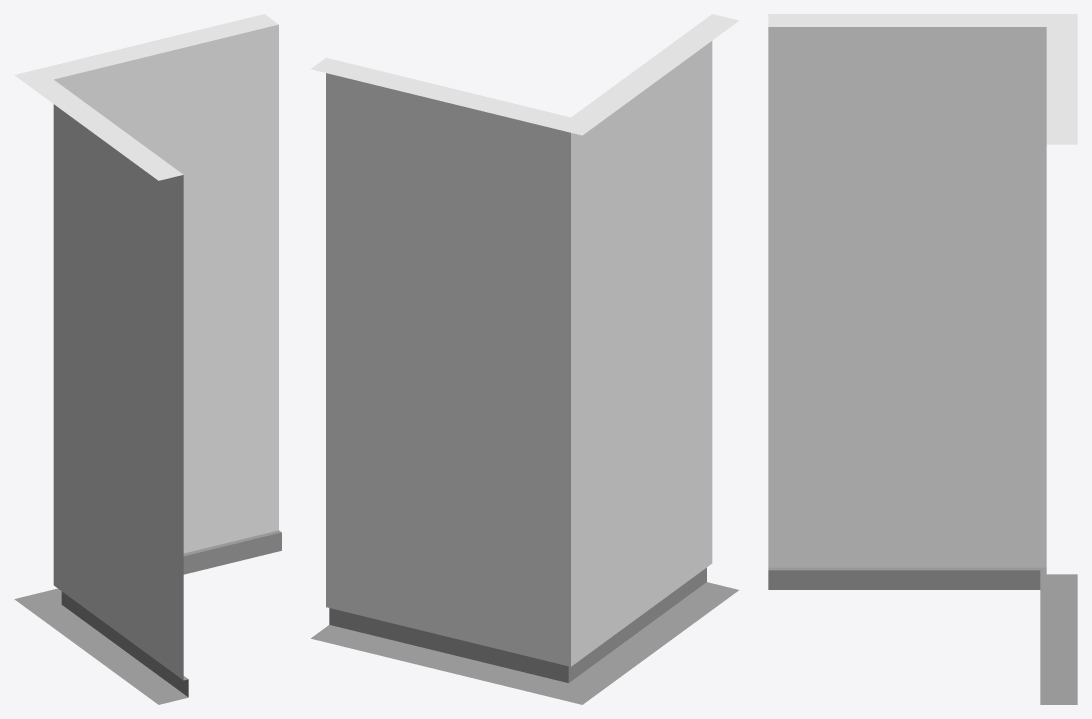
Rendered from Int-V2CornerWhite.fbx.
3 views of the same model, side by side, from view 1: azimuth 30°, elevation 25°; view 2: azimuth 150°, elevation 25°; view 3: azimuth 270°, elevation 25° (orthographic). The views are drawn at different scales.
Visible parts, largest first — view 1: Int-V2CornerWhite; view 2: Int-V2CornerWhite; view 3: Int-V2CornerWhite.
Part boxes in pixels (x1,y1,x2,y2): Int-V2CornerWhite: (14,14,281,704); Int-V2CornerWhite: (311,14,738,704); Int-V2CornerWhite: (768,14,1077,704).
Size of the model in its own units: 100 by 200 by 100.
